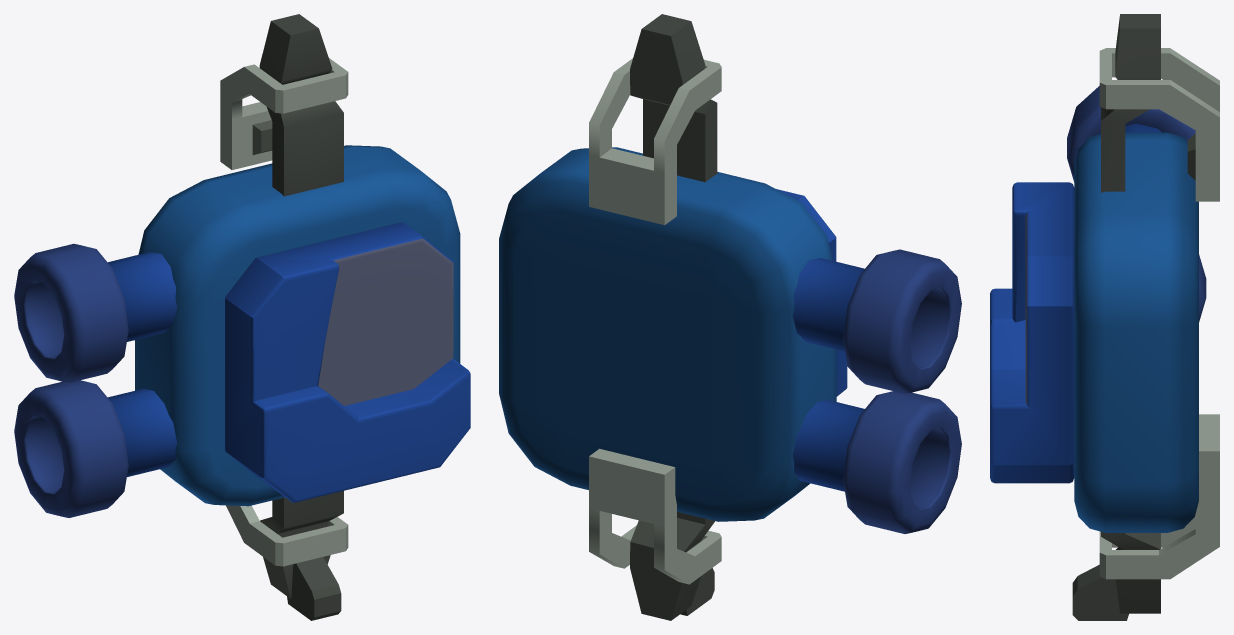
Rendered from Procesor_Cooling_lvl_09_V01.fbx.
The picture shows the model from 3 angles, left to right: view 1: azimuth 30°, elevation 25°; view 2: azimuth 150°, elevation 25°; view 3: azimuth 270°, elevation 25°; orthographic projection. The views are drawn at different scales.
Visible parts, largest first — view 1: Procesor_Cooling_lvl_09; view 2: Procesor_Cooling_lvl_09; view 3: Procesor_Cooling_lvl_09.
Part boxes in pixels (x1=…): Procesor_Cooling_lvl_09: x1=14, y1=14, x2=470, y2=620; Procesor_Cooling_lvl_09: x1=499, y1=14, x2=961, y2=620; Procesor_Cooling_lvl_09: x1=990, y1=14, x2=1219, y2=620.
Size of the model in its own units: 32.81 by 45.04 by 15.83.
